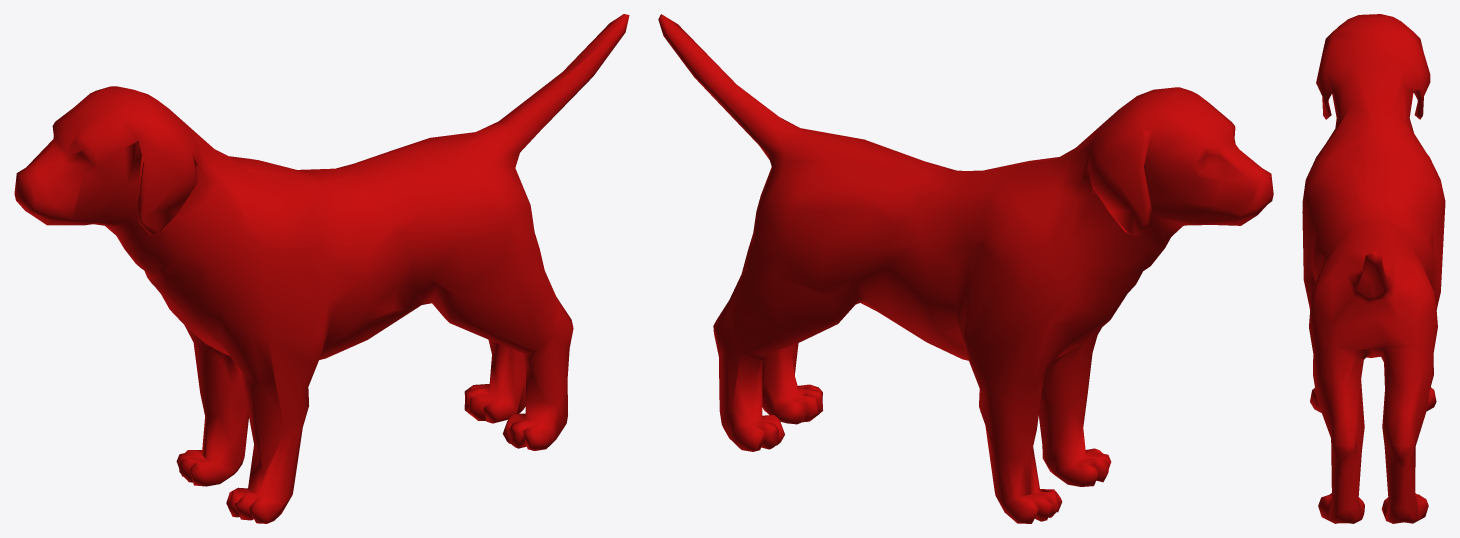
File: Dog.FBX
The picture shows the model from 3 angles, left to right: view 1: azimuth 30°, elevation 25°; view 2: azimuth 150°, elevation 25°; view 3: azimuth 270°, elevation 25°; orthographic projection. The views are drawn at different scales.
Parts seen in each view (by area): view 1: dog; view 2: dog; view 3: dog.
Part boxes in pixels (left/top/right/bottom): dog: left=14, top=14, right=629, bottom=523; dog: left=658, top=14, right=1273, bottom=523; dog: left=1302, top=14, right=1445, bottom=523.
Bounding box in the file's own units: 10.31 × 6.95 × 2.61.
